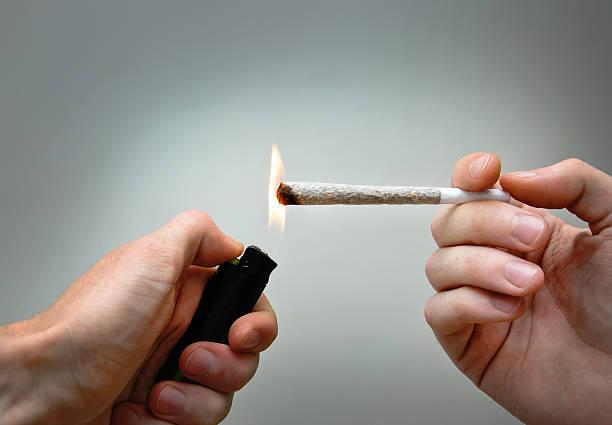Fire: (262, 147, 285, 254)
